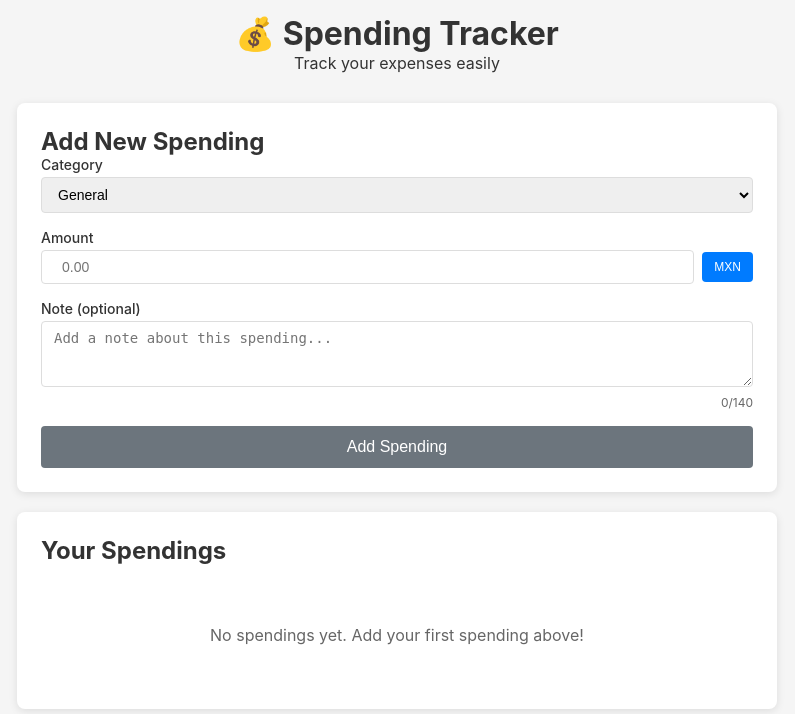
Test: Spending Tracker App › Adding Spendings › resets form after adding spending
Select "Auto" in the dropdown with test id "category-select" at [397, 195], box [41,177,753,213]
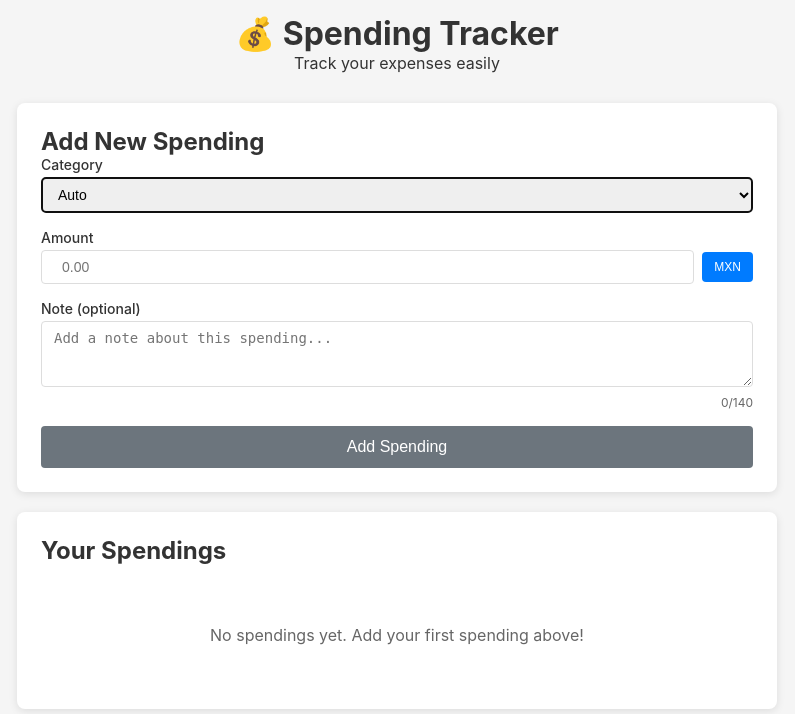
Type "100.00" into the field with test id "amount-input" showing "Amount" at [368, 267], box [41,250,694,284]
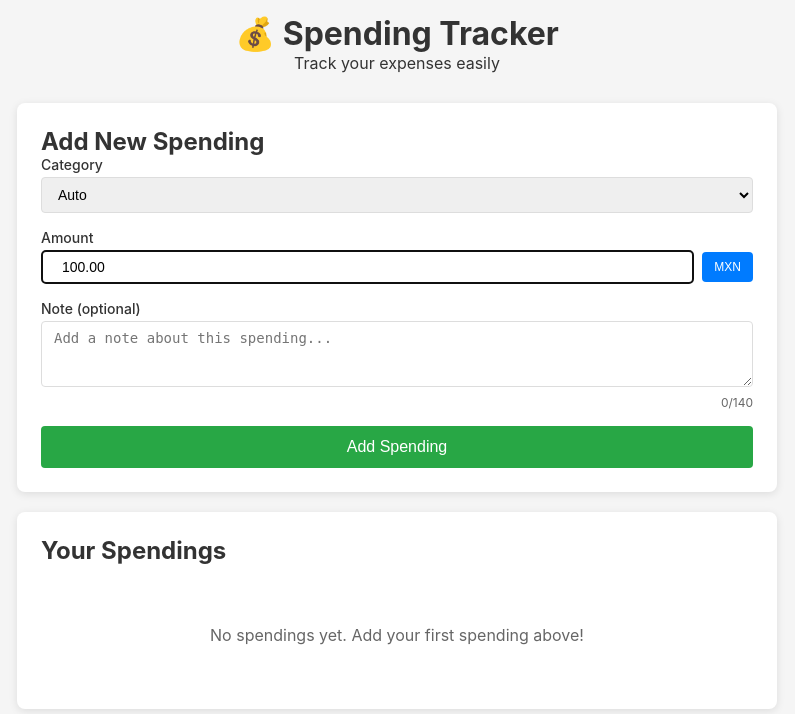
Type "Gas" into the text box with test id "note-input" at [397, 354], box [41,321,753,387]
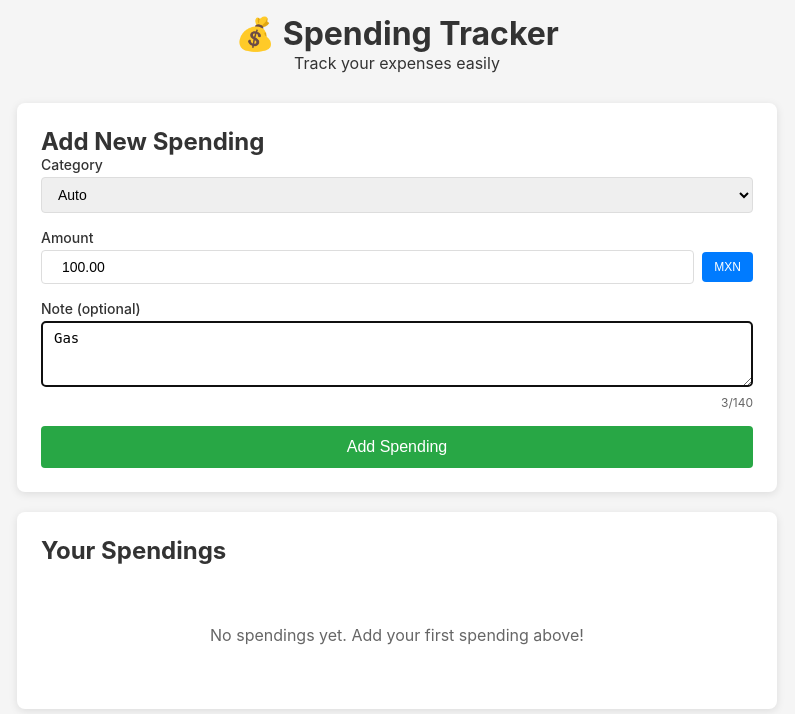
Click the button with test id "add-spending-btn" at [397, 447], box [41,426,753,468]
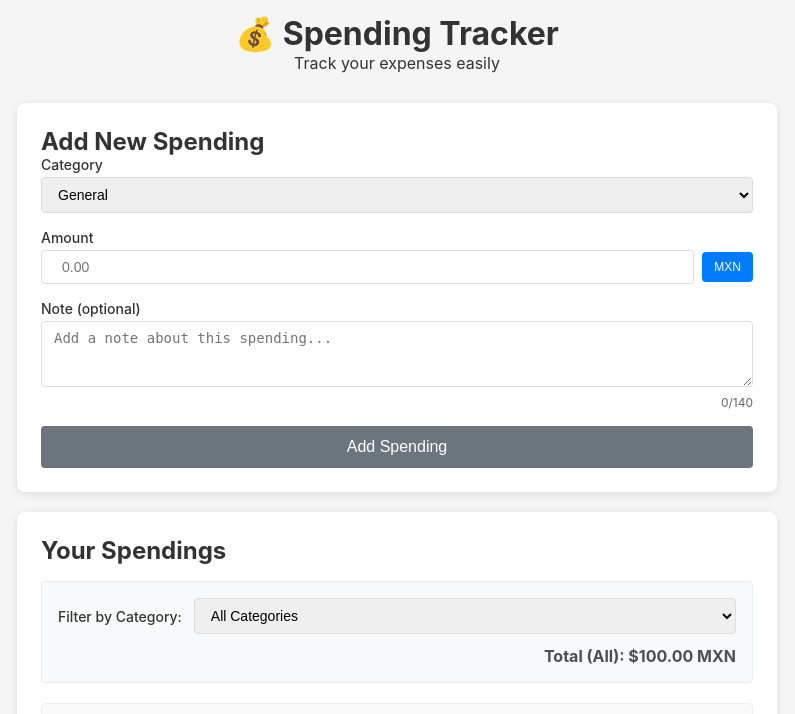
Expected: the field with test id "amount-input" is empty, [41,250,694,284]
Expected: the text box with test id "note-input" is empty, [41,321,753,387]
Expected: the text "0/140" is shown, [721,395,753,410]
